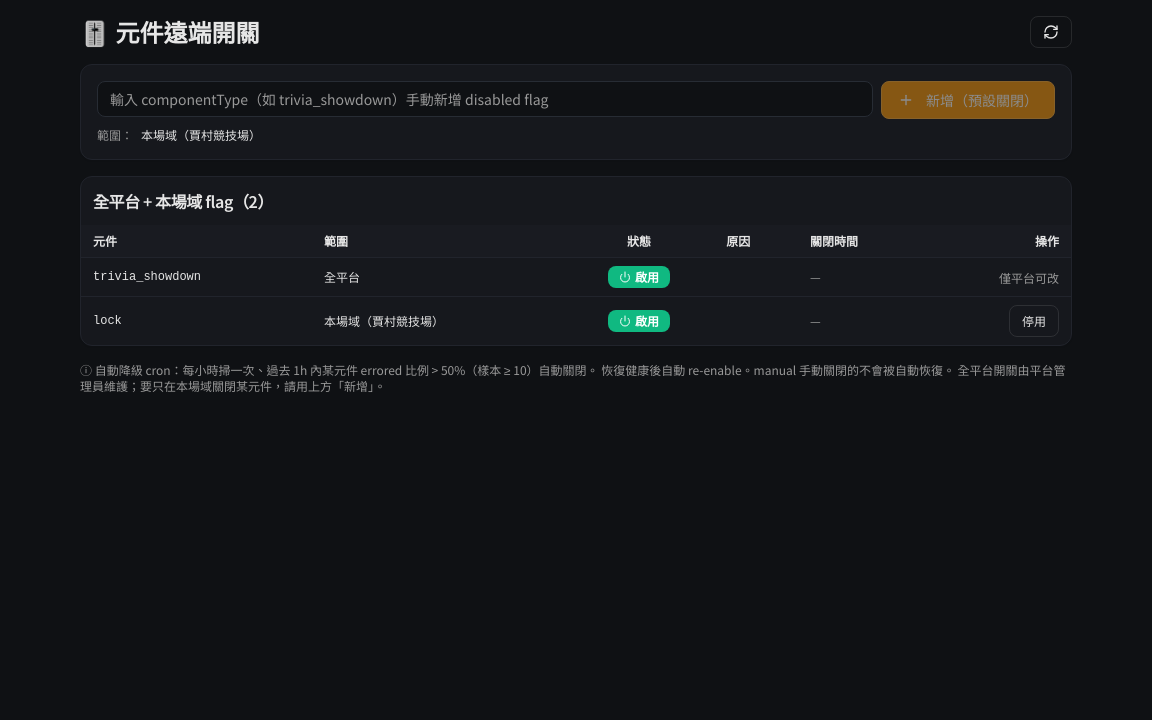
Scenario: AdminFeatureFlags › 場域管理員（非 super_admin） › 切換本場域覆寫前要確認，取消就不送出
Click the button with test id "btn-toggle-lock" at (1034, 321), box [1009,305,1059,337]
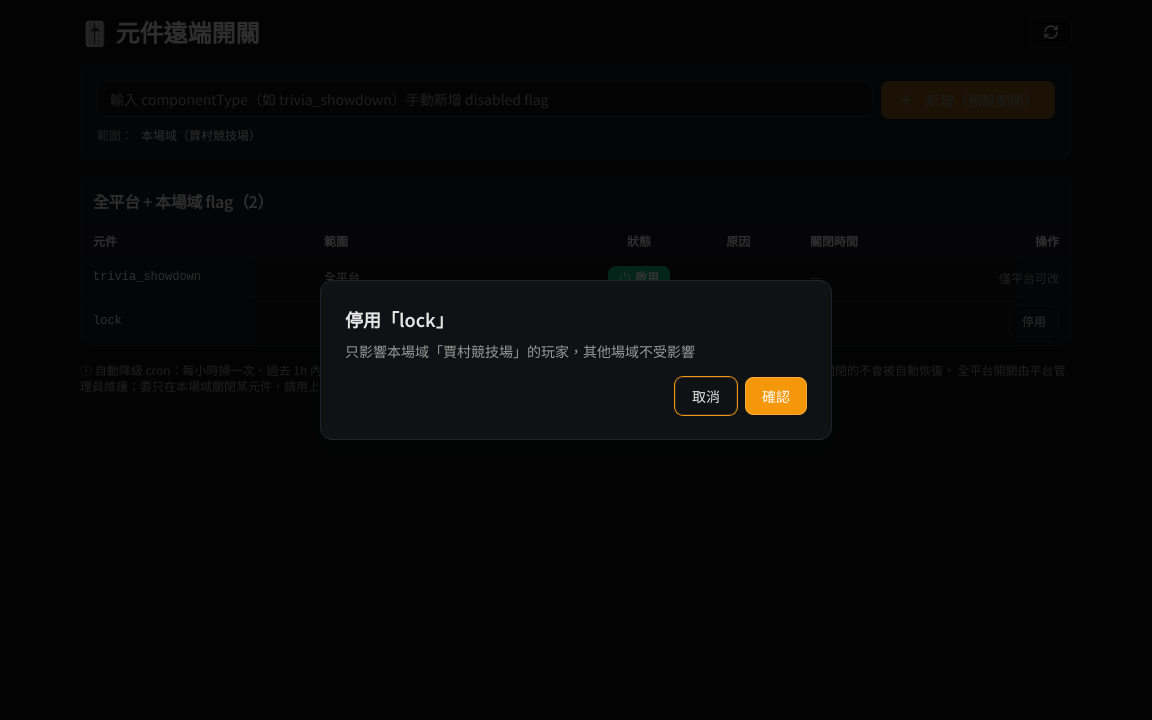
Result: the dialog with test id "dialog-flag-confirm" shows "停用" at [345,306,454,332]
Result: the dialog with test id "dialog-flag-confirm" shows "只影響本場域" at [345,341,695,361]
Click the button with test id "btn-flag-cancel" at (706, 396), box [675,377,737,415]
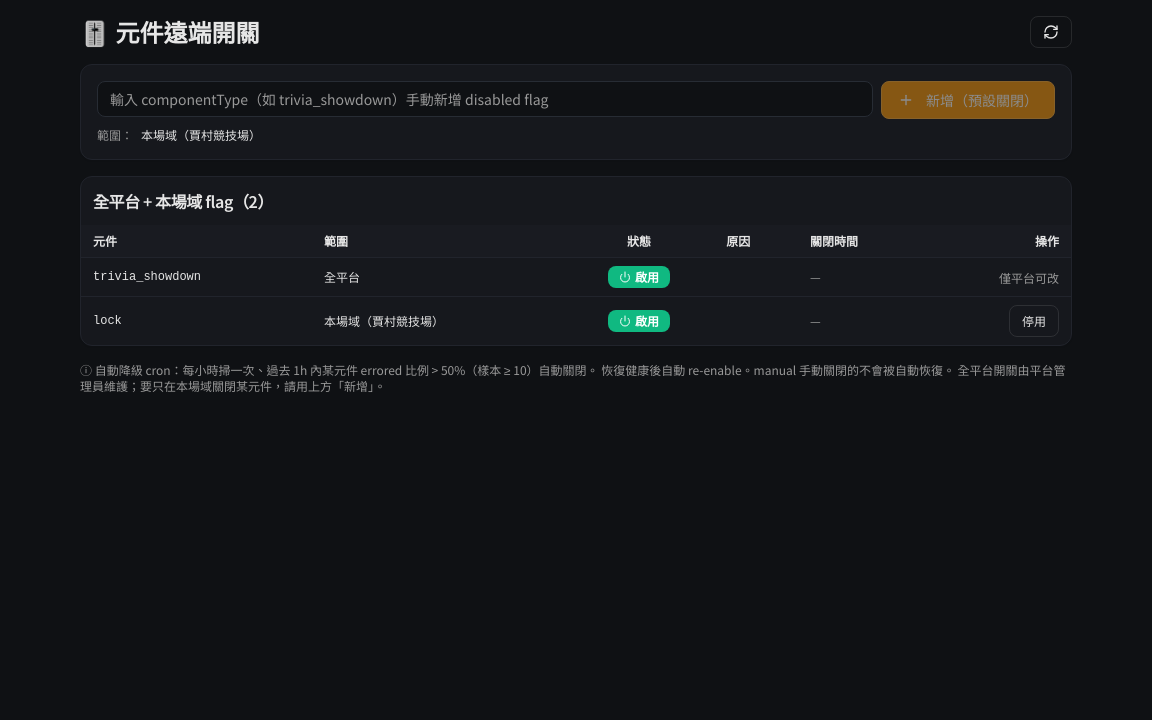
Result: the dialog with test id "dialog-flag-confirm" is gone
